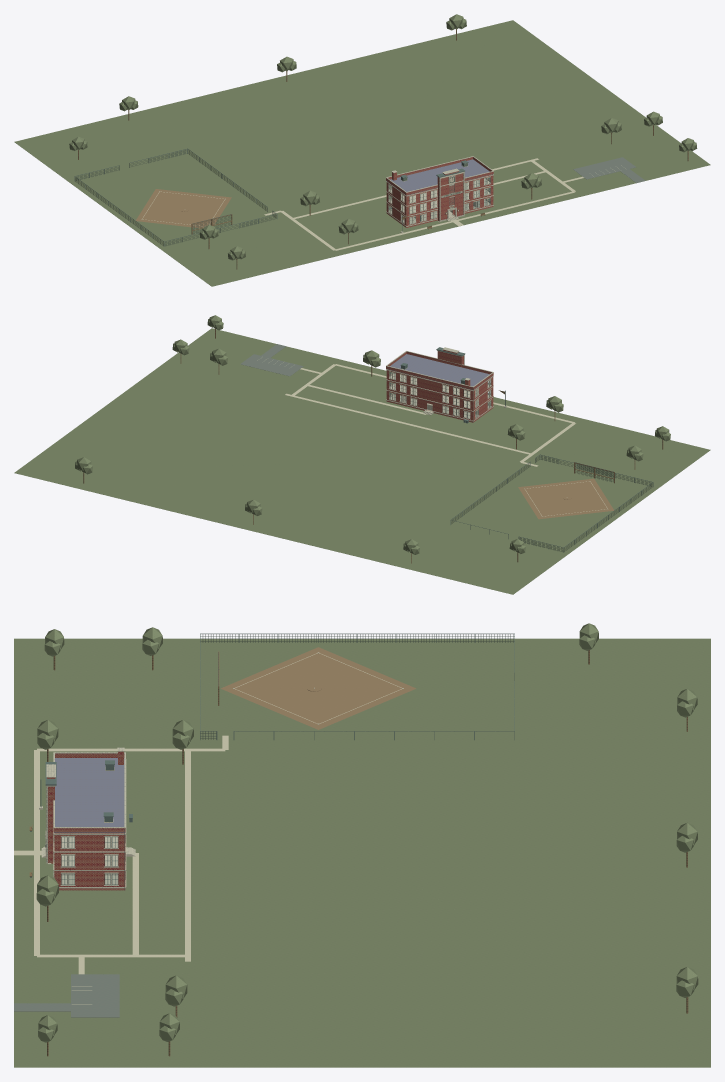
File: lincoln-high-school-1925.glb
The picture shows the model from 3 angles, top to bottom: view 1: azimuth 30°, elevation 25°; view 2: azimuth 150°, elevation 25°; view 3: azimuth 270°, elevation 25°; orthographic projection. The views are drawn at different scales.
Parts seen in each view (by area): view 1: lot__ground_grass, school_1925__wall_brick, baseball_diamond__ground_sport, school_1925__wall_stone, campus_paths__ground_sport, baseball_fence__glass_windows, school_1925__roof_membrane, staff_parking__ground_sport, school_1925__wall_interior, baseball_fence__detail_metal; view 2: lot__ground_grass, school_1925__wall_brick, baseball_diamond__ground_sport, school_1925__wall_stone, campus_paths__ground_sport, school_1925__roof_membrane, baseball_fence__glass_windows, staff_parking__ground_sport, school_1925__wall_interior, baseball_fence__detail_metal; view 3: lot__ground_grass, baseball_diamond__ground_sport, campus_paths__ground_sport, school_1925__roof_membrane, school_1925__wall_brick, school_1925__wall_stone, staff_parking__ground_sport, baseball_fence__glass_windows, baseball_fence__detail_metal.
Part boxes in pixels (box(x1,y1,x2,y2)): lot__ground_grass: box(14, 20, 710, 286); school_1925__wall_brick: box(386, 157, 493, 227); baseball_diamond__ground_sport: box(135, 189, 231, 228); school_1925__wall_stone: box(386, 156, 493, 226); campus_paths__ground_sport: box(264, 158, 583, 250); baseball_fence__glass_windows: box(75, 149, 276, 246); school_1925__roof_membrane: box(386, 159, 493, 195); staff_parking__ground_sport: box(573, 157, 636, 179); school_1925__wall_interior: box(388, 179, 490, 221); baseball_fence__detail_metal: box(74, 148, 277, 246); lot__ground_grass: box(14, 328, 710, 594); school_1925__wall_brick: box(386, 350, 493, 422); baseball_diamond__ground_sport: box(518, 478, 614, 519); school_1925__wall_stone: box(386, 347, 493, 421); campus_paths__ground_sport: box(285, 364, 575, 466); school_1925__roof_membrane: box(386, 354, 491, 389); baseball_fence__glass_windows: box(451, 455, 652, 551); staff_parking__ground_sport: box(240, 354, 303, 376); school_1925__wall_interior: box(389, 373, 490, 415); baseball_fence__detail_metal: box(450, 454, 653, 552); lot__ground_grass: box(14, 638, 710, 1067); baseball_diamond__ground_sport: box(221, 647, 415, 729); campus_paths__ground_sport: box(14, 735, 228, 974); school_1925__roof_membrane: box(54, 758, 125, 832); school_1925__wall_brick: box(47, 751, 125, 890); school_1925__wall_stone: box(41, 747, 135, 888); staff_parking__ground_sport: box(71, 974, 119, 1017); baseball_fence__glass_windows: box(200, 634, 514, 739); baseball_fence__detail_metal: box(200, 633, 514, 740).
Size of what is drawn, in the model's own units: 233 by 20.87 by 160.
Materials: 12 (12 with a texture image).
